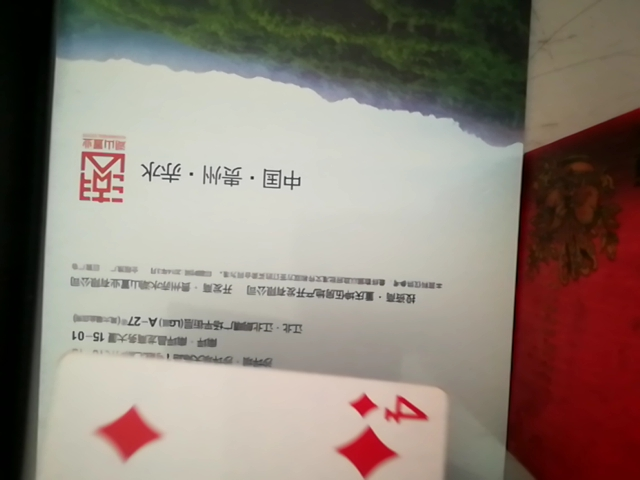fk 4: (31, 353, 470, 476)
